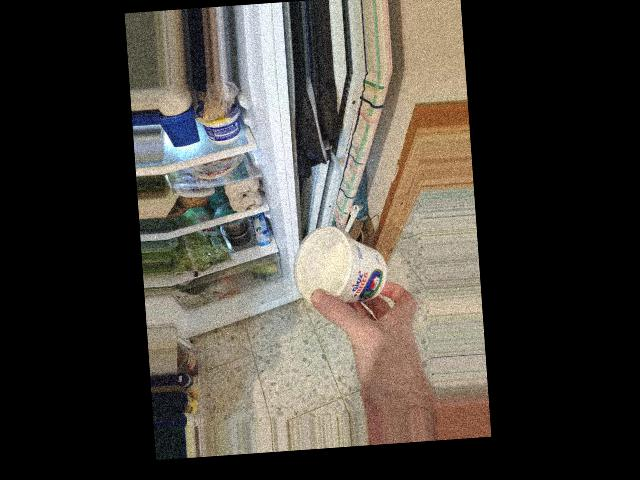cotage: (294, 229, 388, 309)
